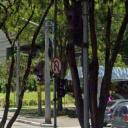NoVirarU: (51, 58, 62, 74)
